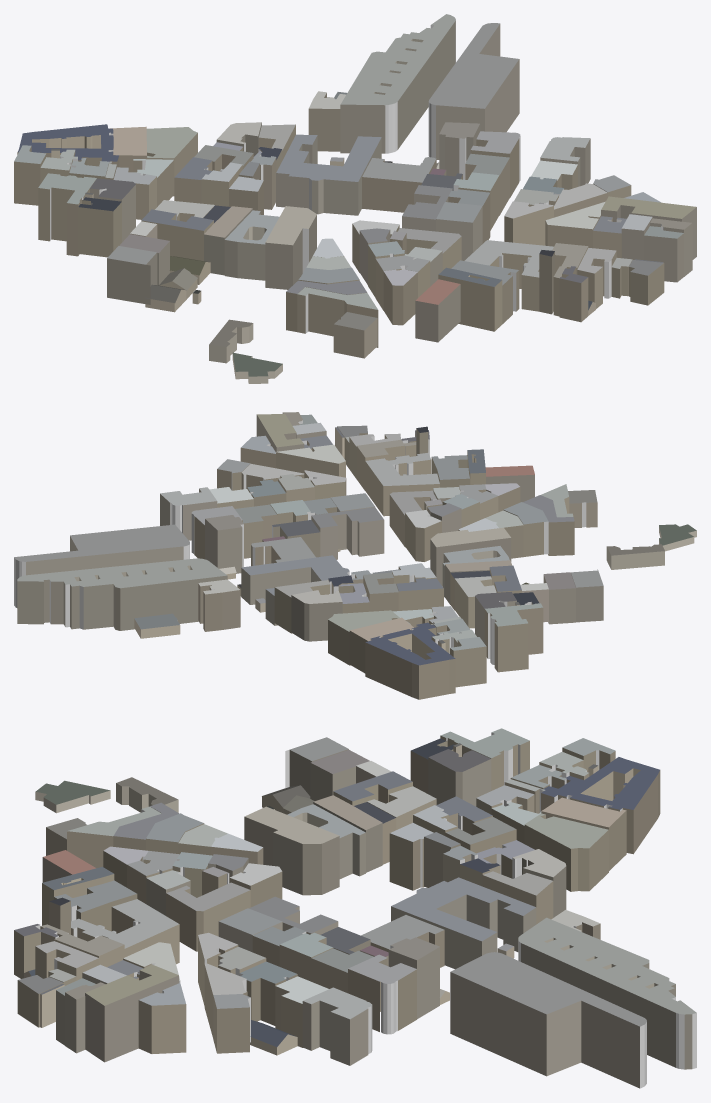
The picture shows the model from 3 angles, top to bottom: view 1: azimuth 30°, elevation 25°; view 2: azimuth 150°, elevation 25°; view 3: azimuth 270°, elevation 25°; orthographic projection. The views are drawn at different scales.
Parts seen in each view (by area): view 1: tuile; view 2: tuile; view 3: tuile.
Boxes of the visible parts, x1=… form: tuile: x1=14, y1=14, x2=696, y2=383; tuile: x1=14, y1=412, x2=696, y2=699; tuile: x1=14, y1=728, x2=696, y2=1088.
Size of the model in its own units: 290 by 34.16 by 284.
